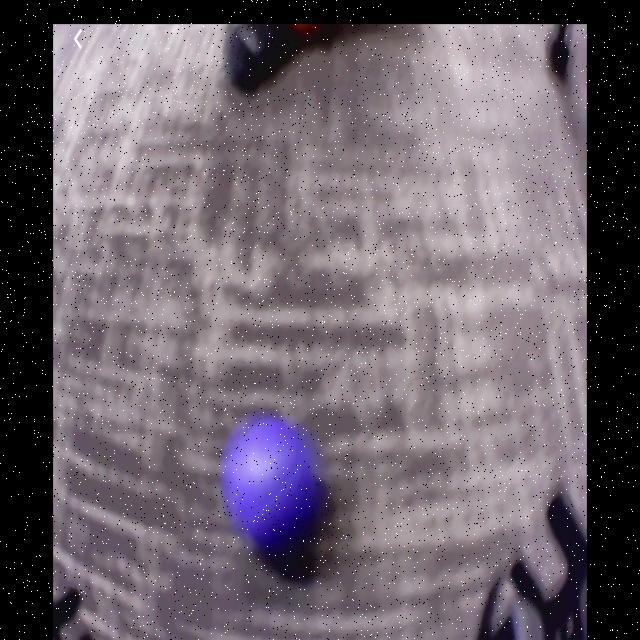ball: (227, 416, 311, 539)
